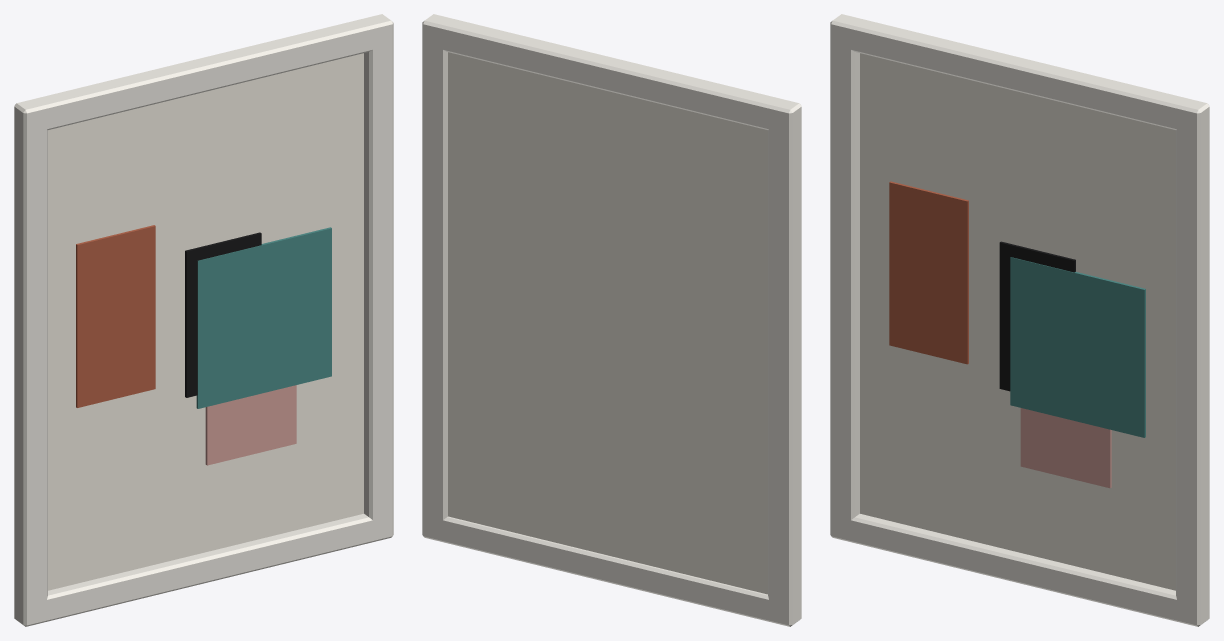
The model's file is i_pic_11.glb.
3 renders of one model, left to right at view 1: azimuth 30°, elevation 25°; view 2: azimuth 150°, elevation 25°; view 3: azimuth 330°, elevation 25°, orthographic.
Visible parts, largest first — view 1: o.004, o.007, o.002, o.003, o.008, o.001, o, o.005, o.006; view 2: o.004, o.002, o.003, o.001, o; view 3: o.004, o.007, o.003, o.002, o.008, o.001, o, o.005, o.006.
Part boxes in pixels (x1,y1,x2,y2): o.004: (48, 53, 363, 590); o.007: (196, 227, 331, 408); o.002: (14, 98, 47, 626); o.003: (363, 14, 393, 541); o.008: (76, 225, 155, 407); o.001: (14, 19, 393, 133); o: (14, 514, 393, 626); o.005: (205, 385, 296, 465); o.006: (185, 232, 261, 397); o.004: (448, 52, 767, 594); o.002: (768, 98, 801, 626); o.003: (422, 14, 452, 541); o.001: (423, 19, 801, 133); o: (422, 514, 801, 626); o.004: (860, 53, 1175, 590); o.007: (1010, 257, 1145, 437); o.003: (1176, 98, 1209, 626); o.002: (830, 14, 860, 541); o.008: (889, 181, 968, 364); o.001: (831, 19, 1209, 133); o: (830, 514, 1209, 626); o.005: (1020, 408, 1111, 488); o.006: (999, 241, 1075, 391).
Bounding box in the file's own units: 0.45 × 0.6 × 0.025.
